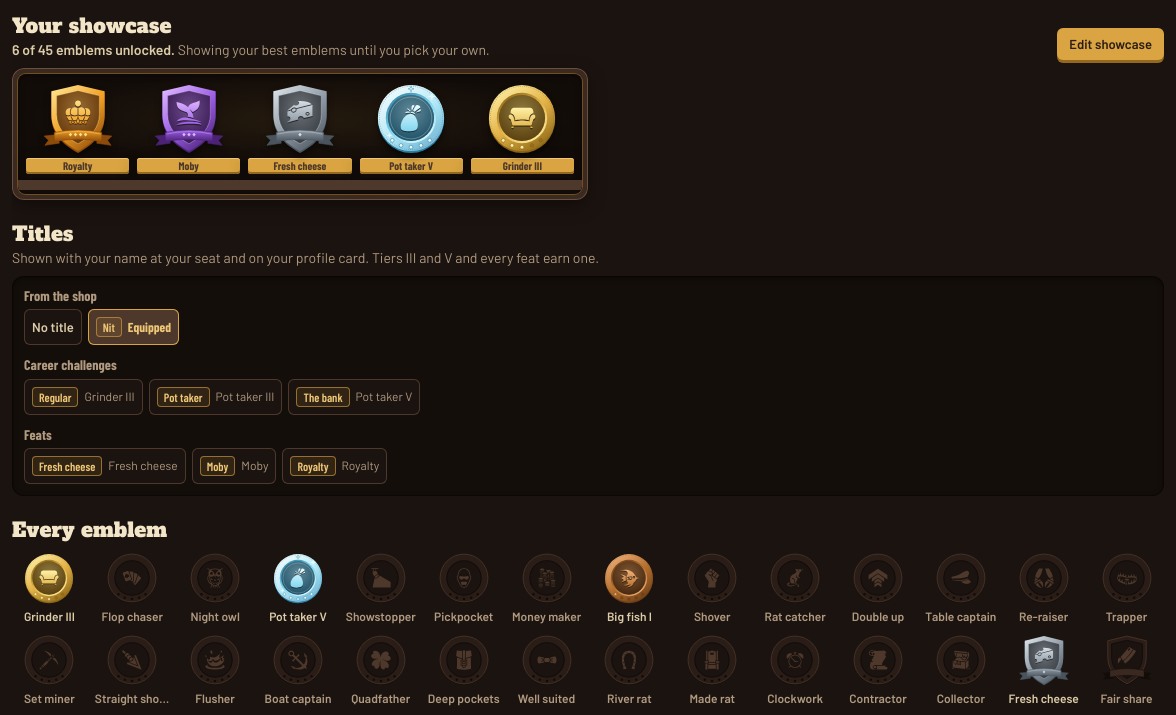
Test: CabinetTab › lists owned and earned titles in groups, marks the equipped one, and equips an earned title
The image size is (1176, 715).
Check: the text "Equipped" is shown, box [128,318,171,337]
Check: the button with aria-label "Royalty (Royalty)" is shown, box [282,448,387,484]
Click the button with aria-label "Regular (Grinder III)".
click(83, 397)  # box [24,379,143,415]
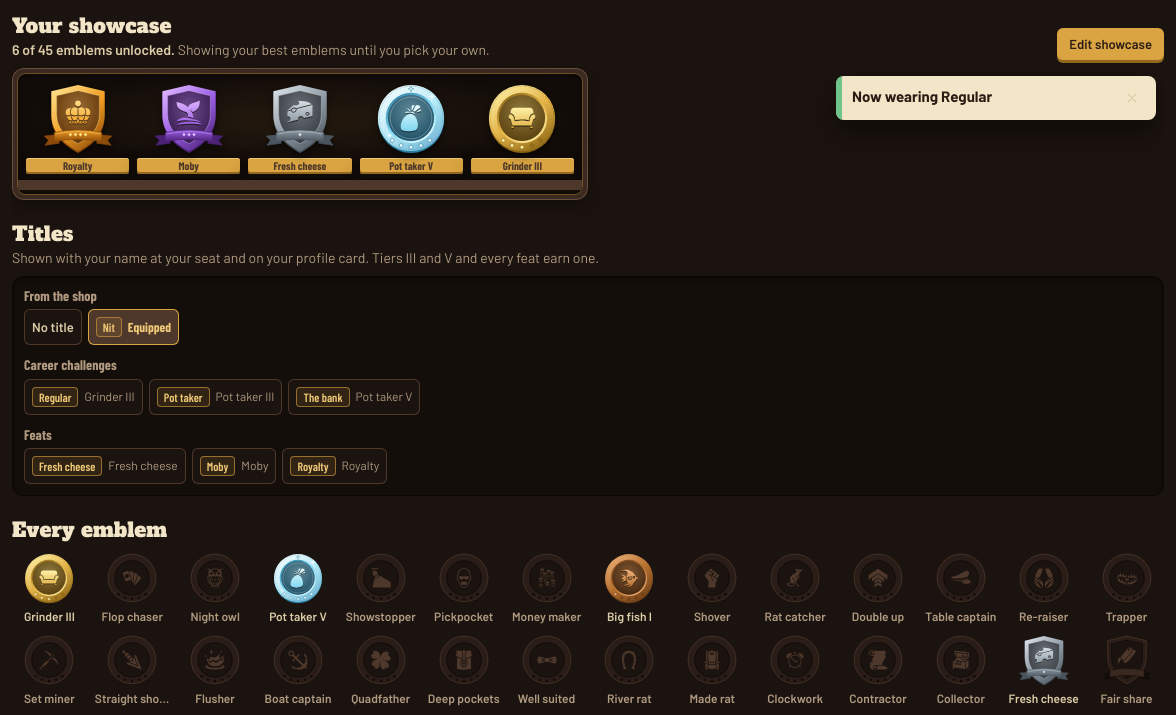
Check: the text "Now wearing Regular" is shown, box [852,87,992,105]
